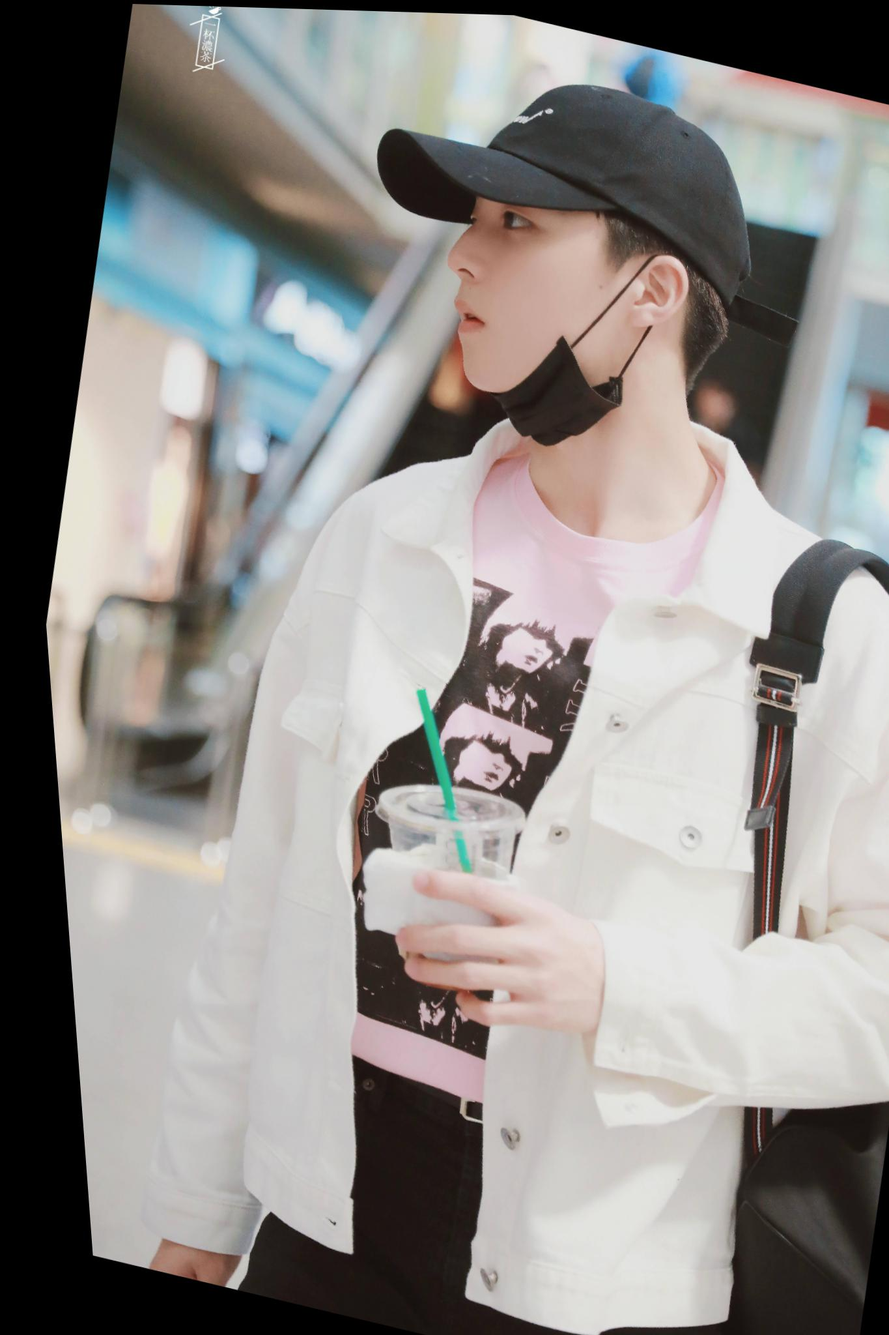WRONG: (413, 181, 622, 431)
